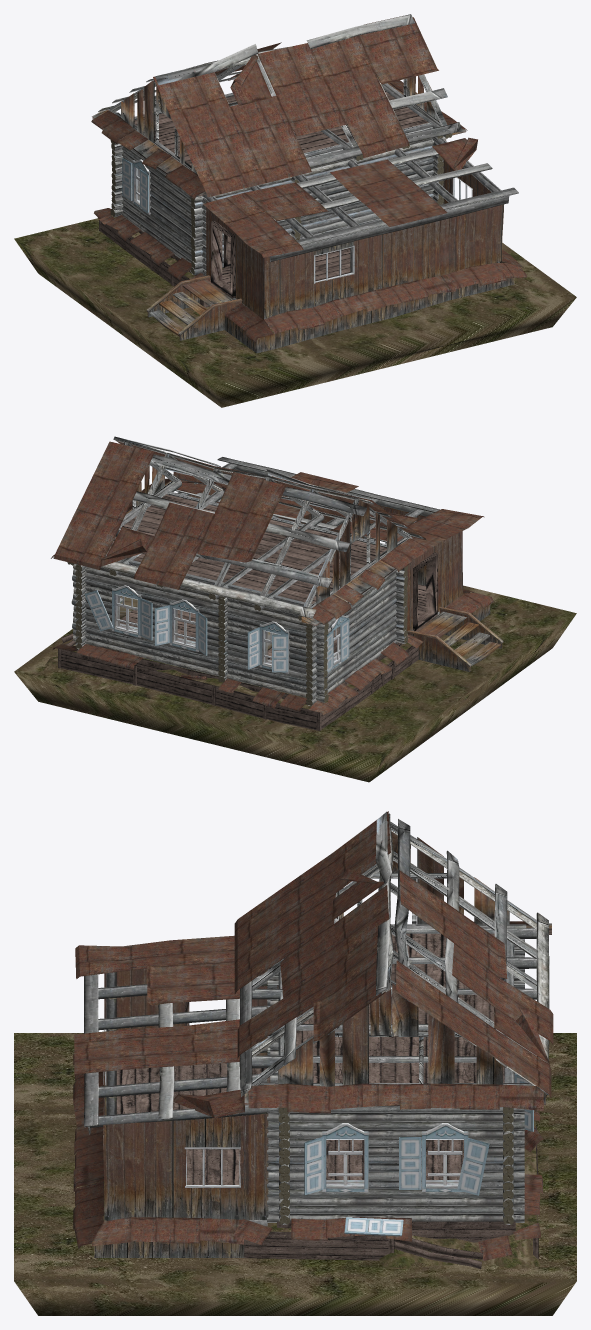
The model's file is village.glb.
3 views of the same model, one above another, from view 1: azimuth 30°, elevation 25°; view 2: azimuth 150°, elevation 25°; view 3: azimuth 270°, elevation 25° (orthographic). The views are drawn at different scales.
Visible parts, largest first — view 1: LOD_0_Metall03, Terrain, LOD_0_WerandaWood, LOD_0_SrubWood_WoodPlanks_0, LOD_0_Obreshetka_stropily_WoodPlanks_0, LOD_0_Obreshetka_stropily_05 - Default_0, LOD_0_HouseInterior_04 - Default_0, LOD_0_DoorWood, LOD_0_ZavalinkaWood, LOD_0_HouseWindows, LOD_0_SrubWood_WoodBark_0, LOD_0_WerandaWindows_Window_0; view 2: Terrain, LOD_0_Metall03, LOD_0_SrubWood_WoodPlanks_0, LOD_0_Obreshetka_stropily_WoodPlanks_0, LOD_0_ZavalinkaWood, LOD_0_HouseWindows, LOD_0_WerandaWood, LOD_0_HouseInterior_04 - Default_0, LOD_0_Obreshetka_stropily_05 - Default_0, LOD_0_SrubWood_WoodBark_0, LOD_0_DoorWood, LOD_0_HouseInterior_WoodPlanks_0; view 3: LOD_0_Metall03, Terrain, LOD_0_SrubWood_WoodPlanks_0, LOD_0_WerandaWood, LOD_0_Obreshetka_stropily_WoodPlanks_0, LOD_0_Obreshetka_stropily_05 - Default_0, LOD_0_ZavalinkaWood, LOD_0_HouseInterior_04 - Default_0, LOD_0_HouseWindows, LOD_0_SrubWood_WoodBark_0, LOD_0_WerandaWindows_Window_0.
Boxes of the visible parts, x1,y1,x2,y2 form: LOD_0_Metall03: (91, 15, 526, 342); Terrain: (14, 218, 576, 407); LOD_0_WerandaWood: (146, 159, 514, 353); LOD_0_SrubWood_WoodPlanks_0: (109, 84, 518, 326); LOD_0_Obreshetka_stropily_WoodPlanks_0: (98, 14, 462, 169); LOD_0_Obreshetka_stropily_05 - Default_0: (92, 75, 466, 194); LOD_0_HouseInterior_04 - Default_0: (134, 87, 428, 259); LOD_0_DoorWood: (211, 220, 235, 298); LOD_0_ZavalinkaWood: (99, 215, 230, 307); LOD_0_HouseWindows: (122, 158, 150, 214); LOD_0_SrubWood_WoodBark_0: (110, 133, 452, 274); LOD_0_WerandaWindows_Window_0: (314, 177, 472, 283); Terrain: (14, 585, 576, 782); LOD_0_Metall03: (51, 441, 493, 714); LOD_0_SrubWood_WoodPlanks_0: (72, 457, 447, 705); LOD_0_Obreshetka_stropily_WoodPlanks_0: (101, 436, 423, 618); LOD_0_ZavalinkaWood: (45, 633, 418, 731); LOD_0_HouseWindows: (84, 585, 349, 673); LOD_0_WerandaWood: (188, 469, 503, 671); LOD_0_HouseInterior_04 - Default_0: (107, 494, 386, 660); LOD_0_Obreshetka_stropily_05 - Default_0: (53, 466, 408, 624); LOD_0_SrubWood_WoodBark_0: (67, 562, 408, 705); LOD_0_DoorWood: (413, 552, 437, 630); LOD_0_HouseInterior_WoodPlanks_0: (105, 491, 386, 606); LOD_0_Metall03: (73, 811, 553, 1260); Terrain: (14, 1033, 576, 1315); LOD_0_SrubWood_WoodPlanks_0: (84, 927, 546, 1226); LOD_0_WerandaWood: (87, 968, 270, 1257); LOD_0_Obreshetka_stropily_WoodPlanks_0: (239, 811, 549, 1096); LOD_0_Obreshetka_stropily_05 - Default_0: (244, 832, 551, 1103); LOD_0_ZavalinkaWood: (244, 1110, 541, 1268); LOD_0_HouseInterior_04 - Default_0: (296, 933, 504, 1179); LOD_0_HouseWindows: (304, 1073, 533, 1236); LOD_0_SrubWood_WoodBark_0: (109, 981, 513, 1224); LOD_0_WerandaWindows_Window_0: (103, 1029, 240, 1187).
Bounding box in the file's own units: 123 × 75.41 × 118.
Materials: 8 (8 with a texture image).
